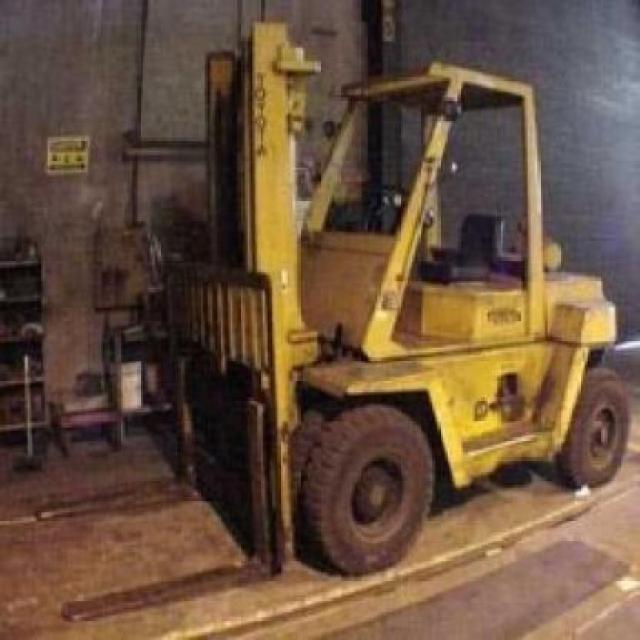forklift: (170, 17, 630, 580)
